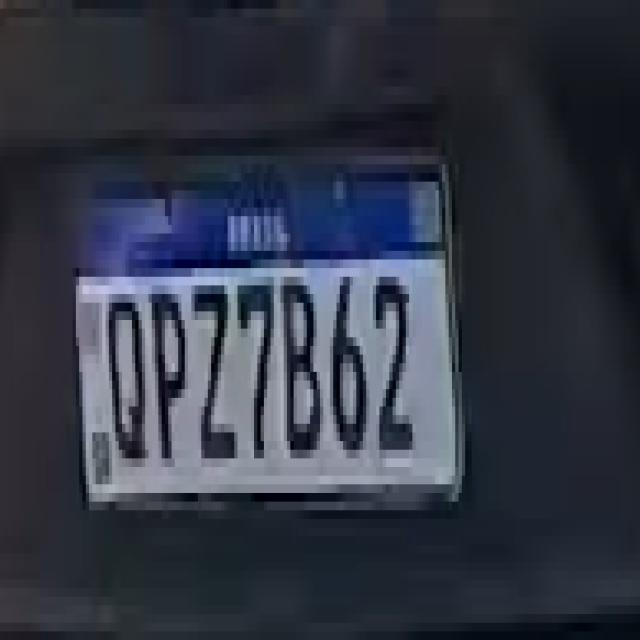Placa_mercosul_carro: (70, 155, 466, 515)
